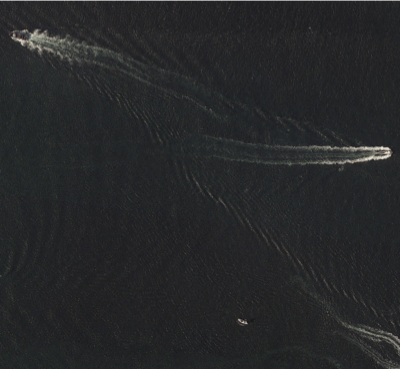boat: (8, 32, 29, 41), (238, 318, 249, 324), (381, 150, 394, 155)
